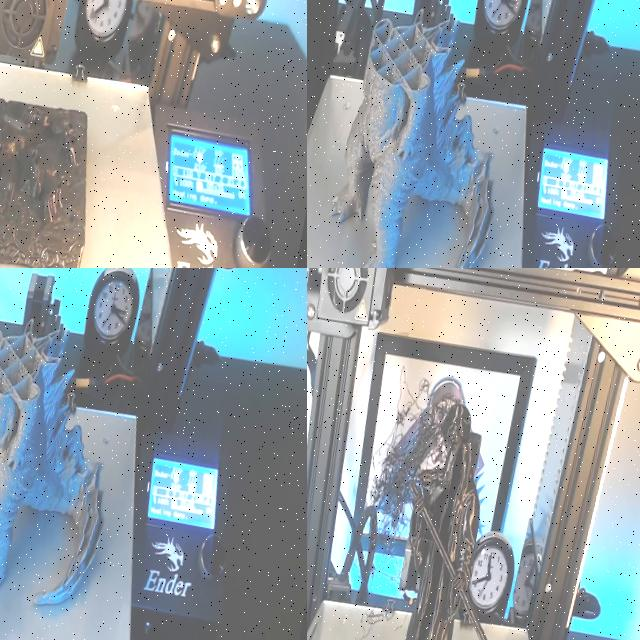spaghetti: (366, 380, 463, 526), (387, 381, 399, 436)
